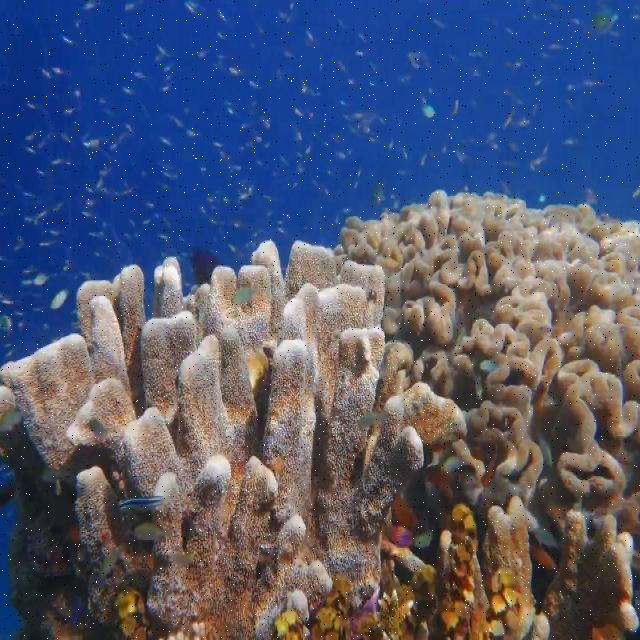reefs: (0, 242, 465, 639), (333, 191, 639, 562), (273, 499, 639, 639)
